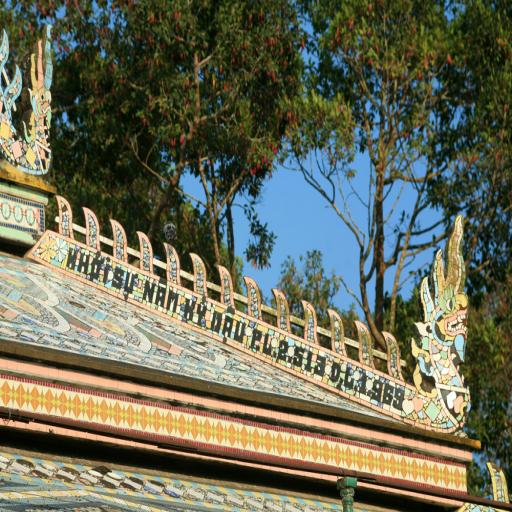hoa: (347, 305, 377, 367), (376, 320, 406, 380), (104, 211, 132, 271), (79, 198, 103, 260), (322, 301, 347, 359), (130, 226, 156, 280), (54, 186, 76, 248), (160, 236, 182, 294), (189, 243, 209, 305), (243, 267, 264, 325), (214, 257, 235, 312), (296, 296, 315, 352), (272, 284, 292, 337)
ran: (391, 202, 486, 449), (0, 16, 69, 194)
